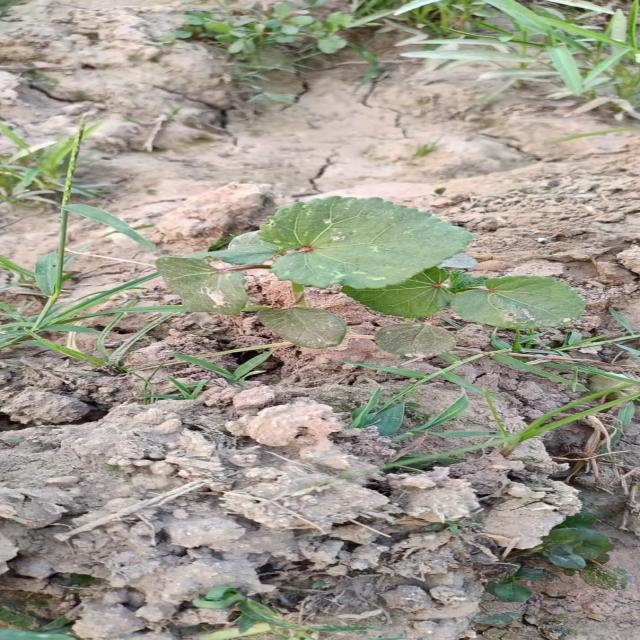plant: (157, 196, 583, 356), (258, 305, 345, 349)
